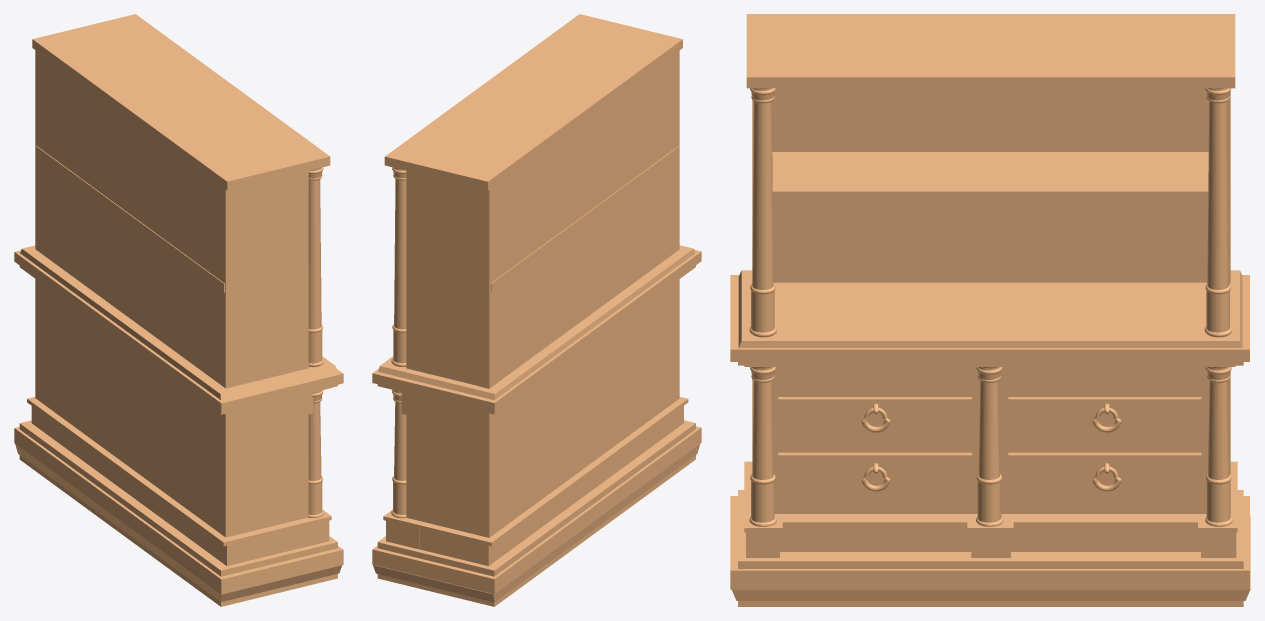
Rendered from shelf.gltf.
3 views of the same model, side by side, from view 1: azimuth 30°, elevation 25°; view 2: azimuth 150°, elevation 25°; view 3: azimuth 270°, elevation 25° (orthographic). The views are drawn at different scales.
Parts seen in each view (by area): view 1: Furniture - Big Shelf; view 2: Furniture - Big Shelf; view 3: Furniture - Big Shelf.
Part boxes in pixels (x1=…): Furniture - Big Shelf: x1=14, y1=14, x2=343, y2=606; Furniture - Big Shelf: x1=372, y1=14, x2=701, y2=606; Furniture - Big Shelf: x1=730, y1=14, x2=1250, y2=606.
Bounding box in the file's own units: 54.99 × 181 × 162.
